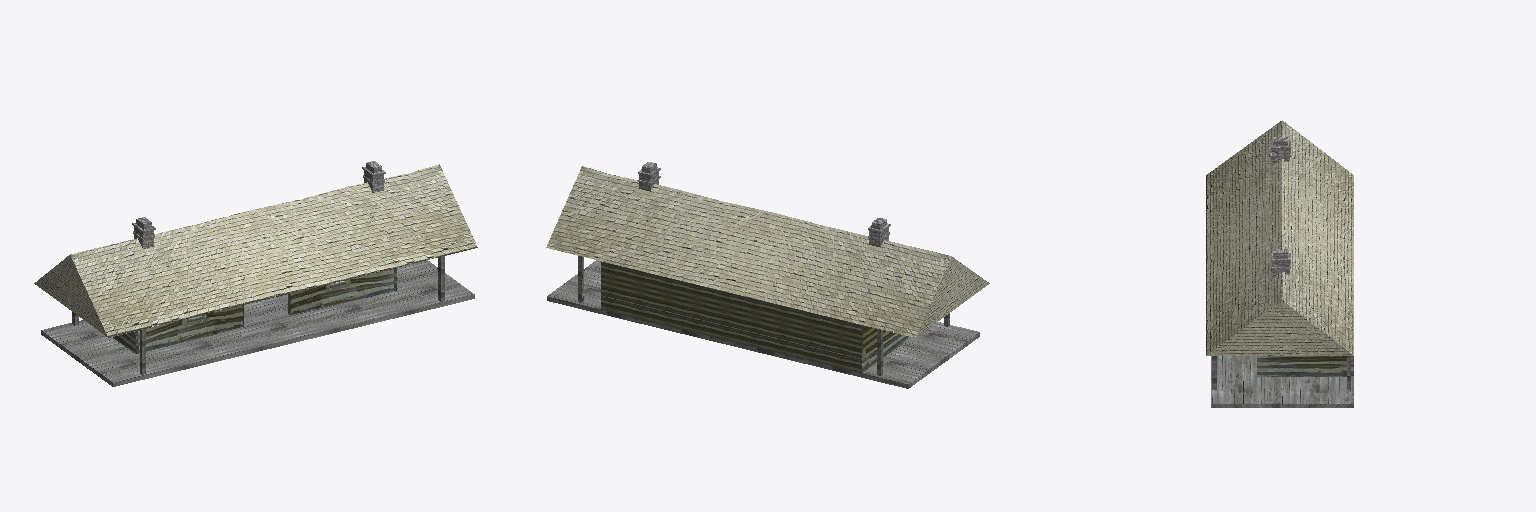
The picture shows the model from 3 angles: view 1: azimuth 30°, elevation 25°; view 2: azimuth 150°, elevation 25°; view 3: azimuth 270°, elevation 25°; orthographic projection.
Parts seen in each view (by area): view 1: hut2; view 2: hut2; view 3: hut2.
Boxes of the visible parts, x1=… form: hut2: x1=34, y1=161, x2=477, y2=386; hut2: x1=546, y1=162, x2=989, y2=388; hut2: x1=1206, y1=120, x2=1353, y2=407.
Size of the model in its own units: 29.84 by 9.65 by 10.4.
Materials: 6 (5 with a texture image).